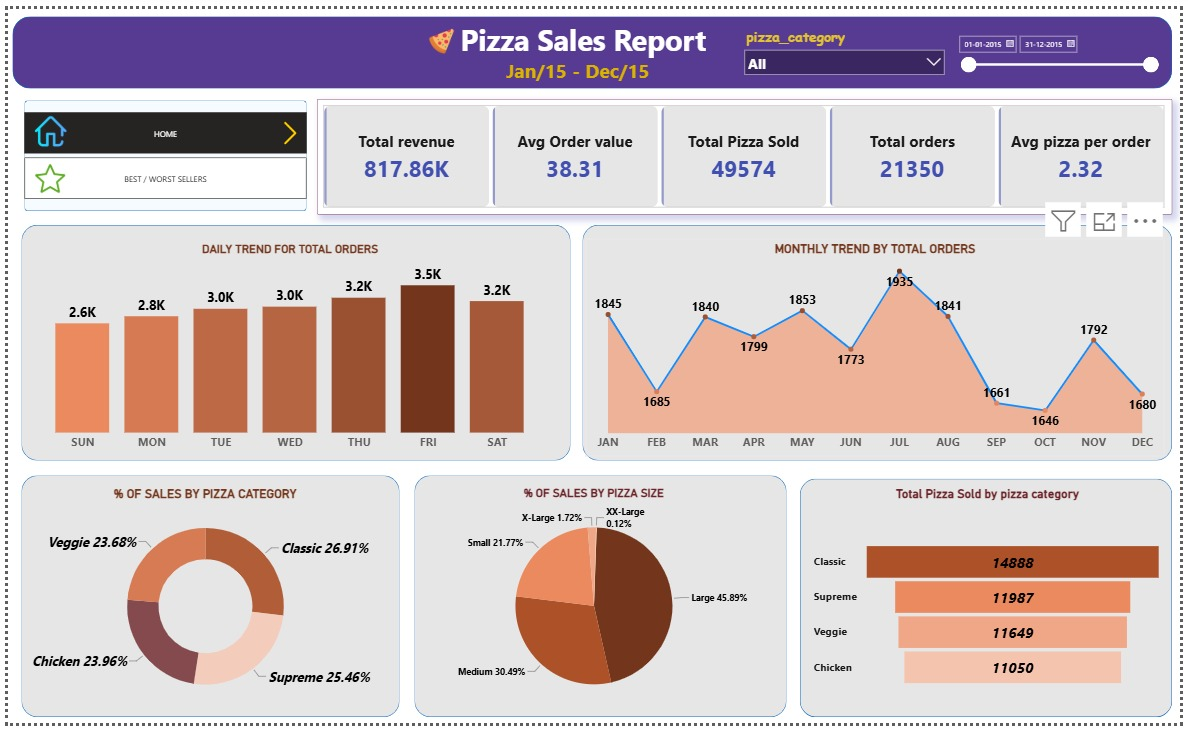

What the dashboard file says about the page in this screenshot:
{"tool":"powerbi","page":{"name":"HOME","canvas":[1954,1190],"ordinal":0},"visuals":[{"type":"cardVisual","fields":{"Data":["pizza_sales.Total revenue","pizza_sales.Avg Order value","pizza_sales.Total Pizza Sold","pizza_sales.Total orders","pizza_sales.Avg pizza per order"]},"box":[515,150,1425,192.5],"z":0},{"type":"shape","box":[7.5,12.5,1932.5,120],"z":1000},{"type":"textbox","box":[697.5,12.5,497.5,110],"z":2000},{"type":"textbox","box":[825,75,263.3,58.3],"z":3000},{"type":"image","box":[652.5,32.5,140,42.5],"z":4000},{"type":"shape","box":[22.5,360,915,392.5],"z":5000},{"type":"shape","box":[957.5,360,982.5,392.5],"z":6000},{"type":"shape","box":[22.5,777.5,630,402.5],"z":7000},{"type":"shape","box":[677.5,777.5,620,402.5],"z":8000},{"type":"shape","box":[1320,777.5,620,402.5],"z":9000},{"type":"columnChart","title":"DAILY TREND FOR TOTAL ORDERS","fields":{"Category":["pizza_sales.Order Day"],"Y":["pizza_sales.Total orders"]},"box":[27.5,382.5,885,362.5],"z":10000},{"type":"areaChart","title":"MONTHLY TREND BY TOTAL ORDERS","fields":{"Category":["pizza_sales.Order Month"],"Y":["pizza_sales.Total orders"]},"box":[962.5,382.5,965,362.5],"z":11000},{"type":"donutChart","title":"% OF SALES BY PIZZA CATEGORY","fields":{"Category":["pizza_sales.pizza_category"],"Y":["pizza_sales.Total revenue"]},"box":[27.5,790,602.5,382.5],"z":12000},{"type":"pieChart","title":"% OF SALES BY PIZZA SIZE","fields":{"Category":["pizza_sales.pizza_size"],"Y":["pizza_sales.Total revenue"]},"box":[677.5,790,597.5,382.5],"z":13000},{"type":"funnel","title":"Total Pizza Sold by pizza category","fields":{"Category":["pizza_sales.pizza_category"],"Y":["pizza_sales.Total Pizza Sold"]},"box":[1337.5,790,590,410],"z":14000},{"type":"slicer","fields":{"Values":["pizza_sales.pizza_category"]},"box":[1218.3,25,353.3,98.3],"z":15000},{"type":"slicer","fields":{"Values":["pizza_sales.order_date"]},"box":[1571.7,35,353.3,98.3],"z":16000},{"type":"shape","box":[27.5,152.5,470,184.2],"z":17000},{"type":"pageNavigator","box":[27.5,171.7,470,68.3],"z":18000},{"type":"pageNavigator","box":[27.5,246.7,470,69.2],"z":19000},{"type":"image","box":[441.2,186.2,56.2,38.8],"z":20000},{"type":"image","box":[27.5,177.5,87.5,52.5],"z":21000},{"type":"image","box":[40,256.2,61.2,50],"z":22000}]}

Visuals, with their boxes in screenshot pixels (x1, y1, x2, y2), scaled from the page's 1954x1190 canvas onto the 1188x729 screenshot:
cardVisual - pizza_sales.Total revenue x pizza_sales.Avg Order value: rect(313, 92, 1179, 210)
shape: rect(5, 8, 1179, 81)
textbox: rect(424, 8, 727, 75)
textbox: rect(502, 46, 662, 82)
image: rect(397, 20, 482, 46)
shape: rect(14, 221, 570, 461)
shape: rect(582, 221, 1179, 461)
shape: rect(14, 476, 397, 723)
shape: rect(412, 476, 789, 723)
shape: rect(803, 476, 1179, 723)
"DAILY TREND FOR TOTAL ORDERS" columnChart: rect(17, 234, 555, 456)
"MONTHLY TREND BY TOTAL ORDERS" areaChart: rect(585, 234, 1172, 456)
"% OF SALES BY PIZZA CATEGORY" donutChart: rect(17, 484, 383, 718)
"% OF SALES BY PIZZA SIZE" pieChart: rect(412, 484, 775, 718)
"Total Pizza Sold by pizza category" funnel: rect(813, 484, 1172, 728)
slicer - pizza_sales.pizza_category: rect(741, 15, 956, 76)
slicer - pizza_sales.order_date: rect(956, 21, 1170, 82)
shape: rect(17, 93, 302, 206)
pageNavigator: rect(17, 105, 302, 147)
pageNavigator: rect(17, 151, 302, 194)
image: rect(268, 114, 302, 138)
image: rect(17, 109, 70, 141)
image: rect(24, 157, 62, 188)
